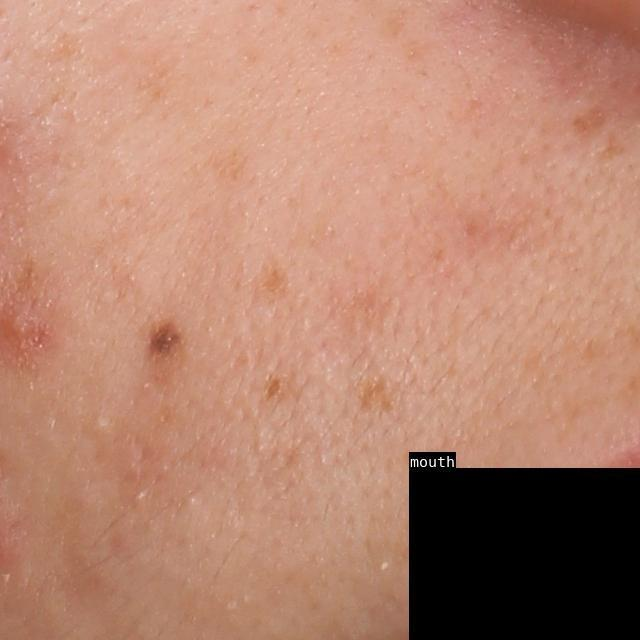comedo: (90, 415, 113, 436)
melasma: (355, 369, 403, 423), (569, 104, 611, 136)
nevus: (124, 305, 197, 369)
